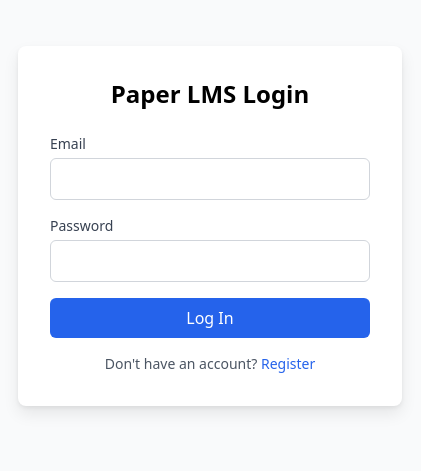
Test: LoginPage › toggle to register mode
The image size is (421, 471).
Expected: the text "Full Name" is not shown
Click the button "Register" at (288, 364), box 261,354 -> 315,374
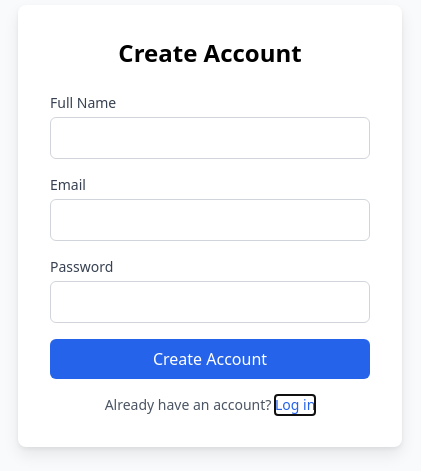
Now the heading "Create Account" is shown, box 118,36 -> 302,69
Now the text "Full Name" is shown, box 50,93 -> 116,112
